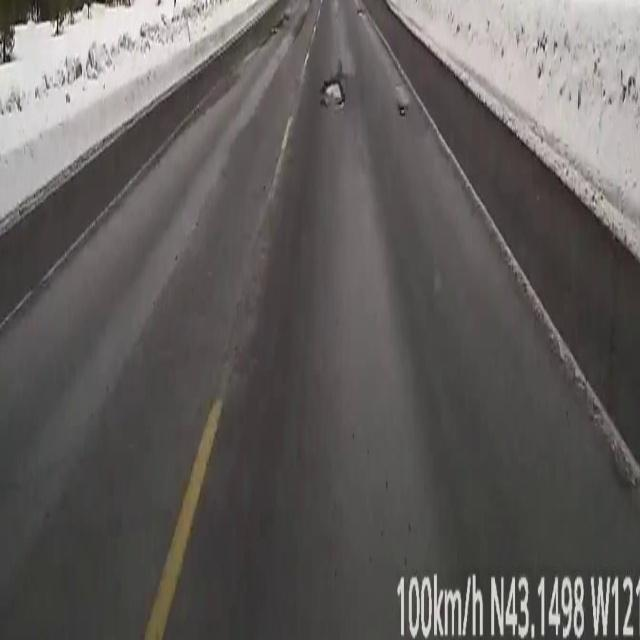pothole: (324, 80, 344, 101), (398, 103, 408, 120)
